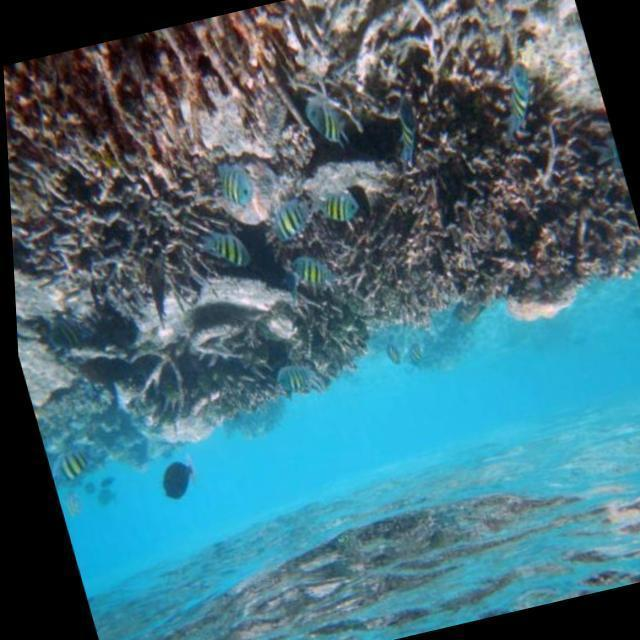Dead Coral: (0, 0, 639, 452)
